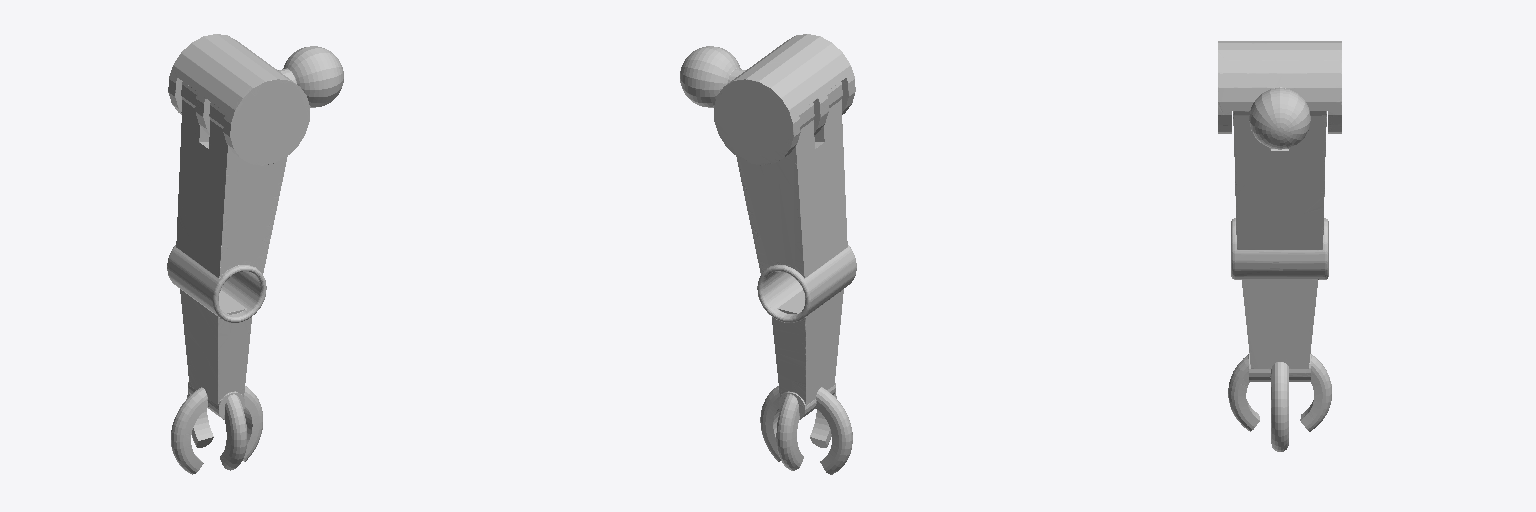
File: WALLE_E_RIGHT_ARM_HOLLOW_1MM.obj
3 renders of one model, left to right at view 1: azimuth 30°, elevation 25°; view 2: azimuth 150°, elevation 25°; view 3: azimuth 270°, elevation 25°, orthographic.
Parts seen in each view (by area): view 1: WALLE_E_RIGHT_ARM_HOLLOW_1MM1:Mesh; view 2: WALLE_E_RIGHT_ARM_HOLLOW_1MM1:Mesh; view 3: WALLE_E_RIGHT_ARM_HOLLOW_1MM1:Mesh.
Boxes of the visible parts, x1=… form: WALLE_E_RIGHT_ARM_HOLLOW_1MM1:Mesh: x1=167, y1=34, x2=343, y2=474; WALLE_E_RIGHT_ARM_HOLLOW_1MM1:Mesh: x1=680, y1=34, x2=856, y2=474; WALLE_E_RIGHT_ARM_HOLLOW_1MM1:Mesh: x1=1218, y1=41, x2=1341, y2=451.
Bounding box in the file's own units: 6.25 × 14.37 × 4.